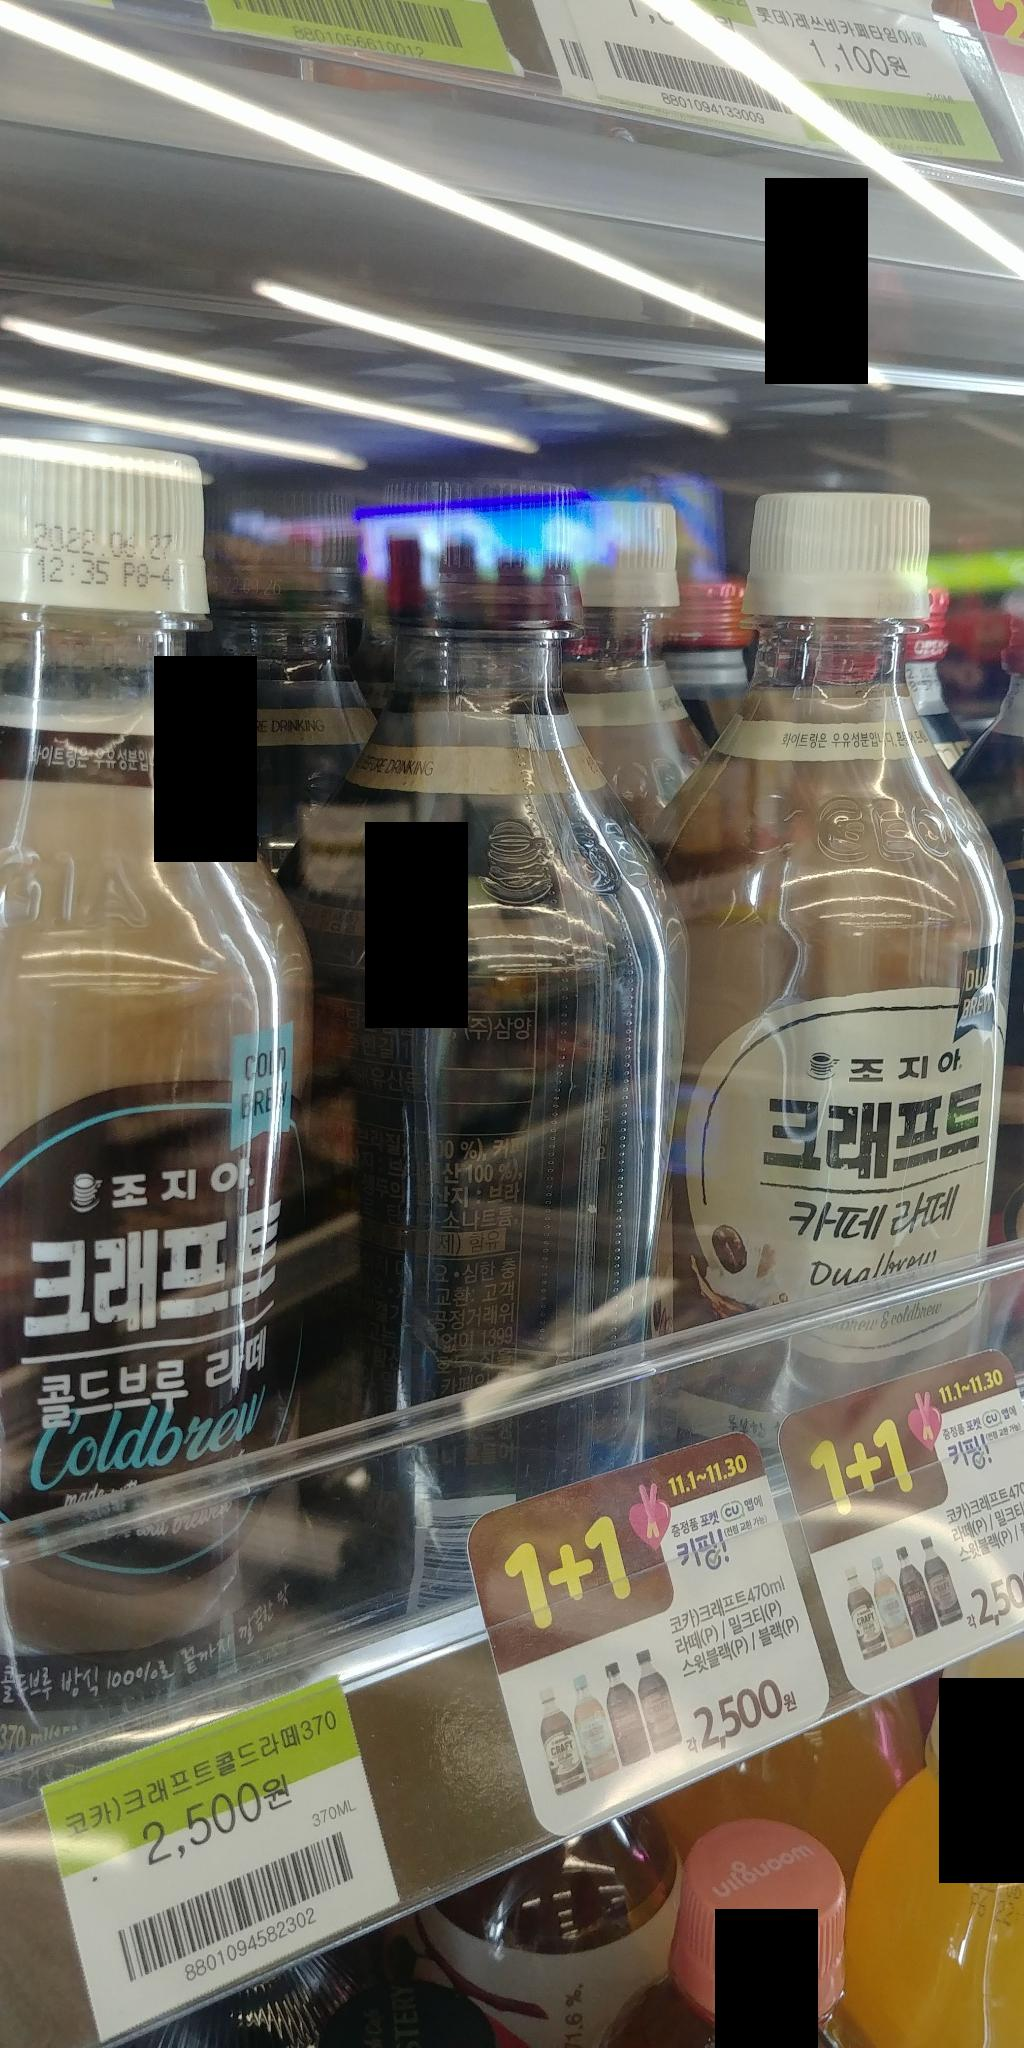georgiacraft_black: (323, 462, 684, 1562)
